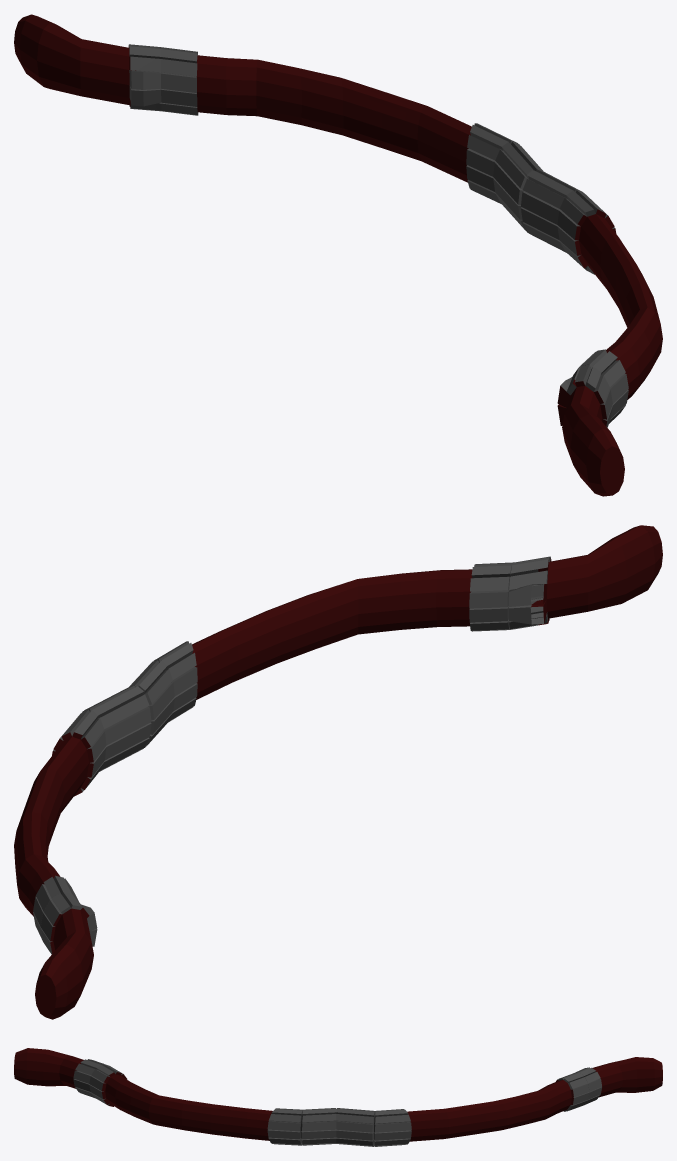
Rendered from ArcOF.fbx.
3 renders of one model, top to bottom at view 1: azimuth 30°, elevation 25°; view 2: azimuth 150°, elevation 25°; view 3: azimuth 270°, elevation 25°, orthographic. The views are drawn at different scales.
Visible parts, largest first — view 1: Arc; view 2: Arc; view 3: Arc.
Part boxes in pixels (x1,y1,x2,y2): Arc: [14, 14, 662, 496]; Arc: [14, 525, 662, 1019]; Arc: [14, 1048, 662, 1146].
Bounding box in the file's own units: 46.2 × 12.99 × 184.
